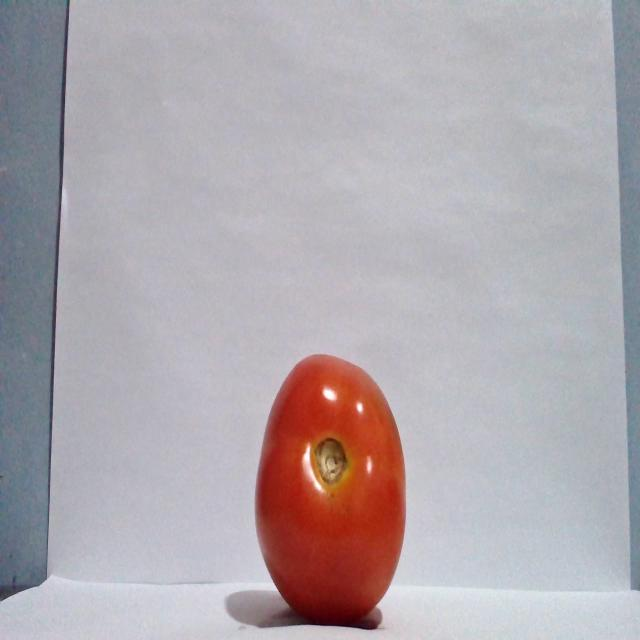Red: (253, 352, 407, 623)
